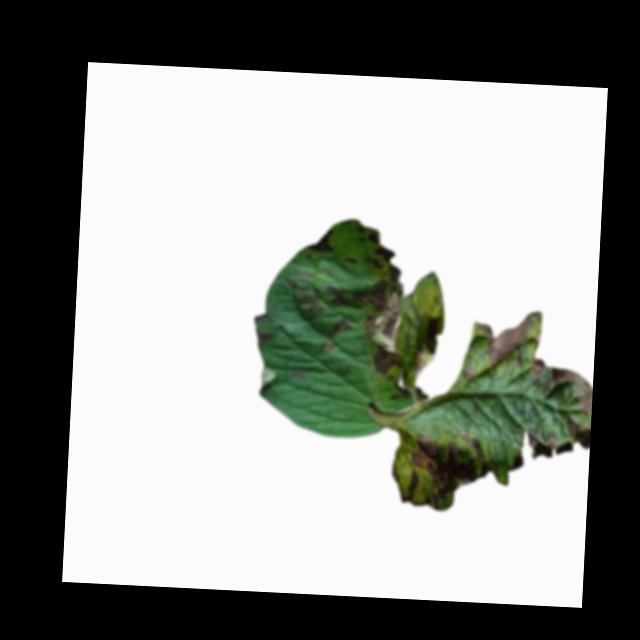Early_blight: (389, 425, 493, 513), (363, 278, 407, 377), (529, 355, 593, 413), (478, 312, 531, 373), (370, 231, 406, 279), (525, 428, 561, 460), (423, 311, 443, 356), (305, 228, 334, 251), (302, 292, 324, 316), (334, 316, 352, 332)
